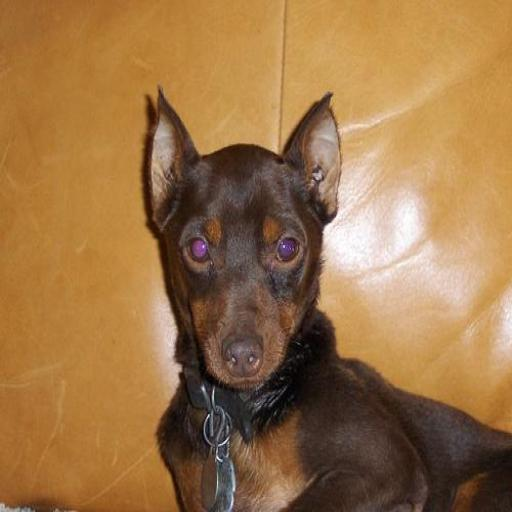dog_face: (149, 88, 334, 393)
